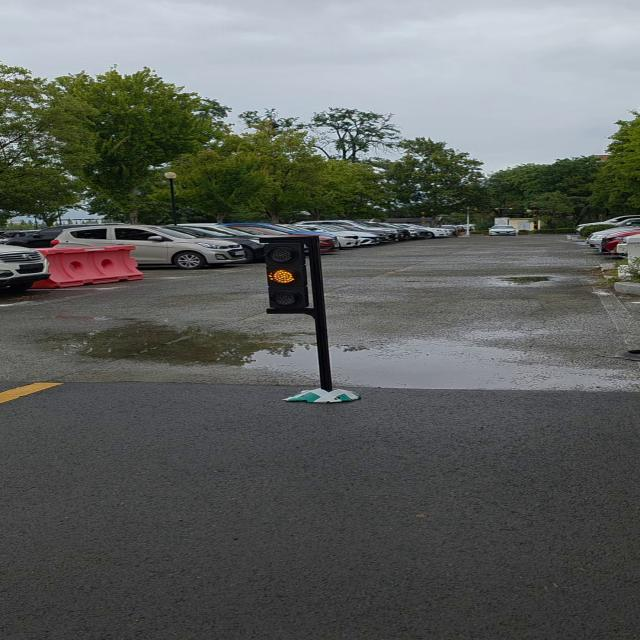yellow: (258, 238, 320, 316)
